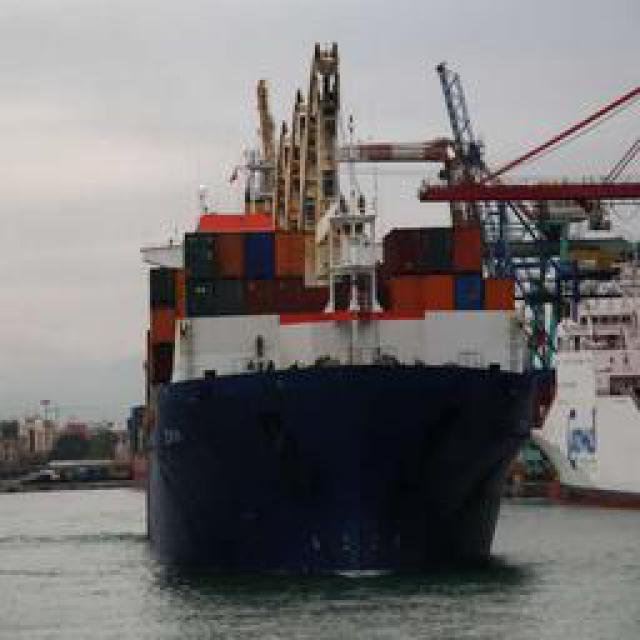Ship: (145, 24, 583, 579)
